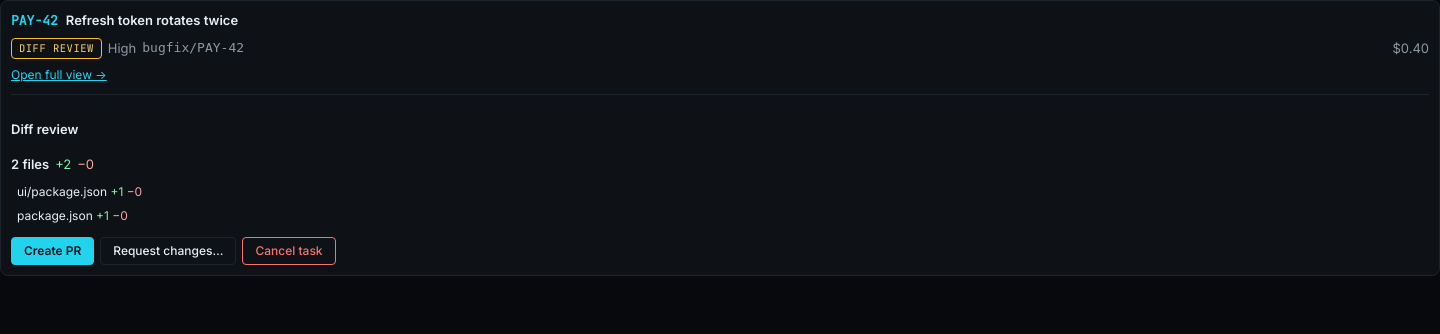
Test case: BugPanel › matches a file to its own diff section when another path is a suffix of it
The width and height of the screenshot is (1440, 334).
Expected: the button "ui/package.json +1 −0" is shown, [11, 180, 148, 204]
// The root package.json must show ITS own hunk, not ui/package.json's.
Click the button "package.json +1 −0" at (72, 217), box [11, 204, 134, 229]
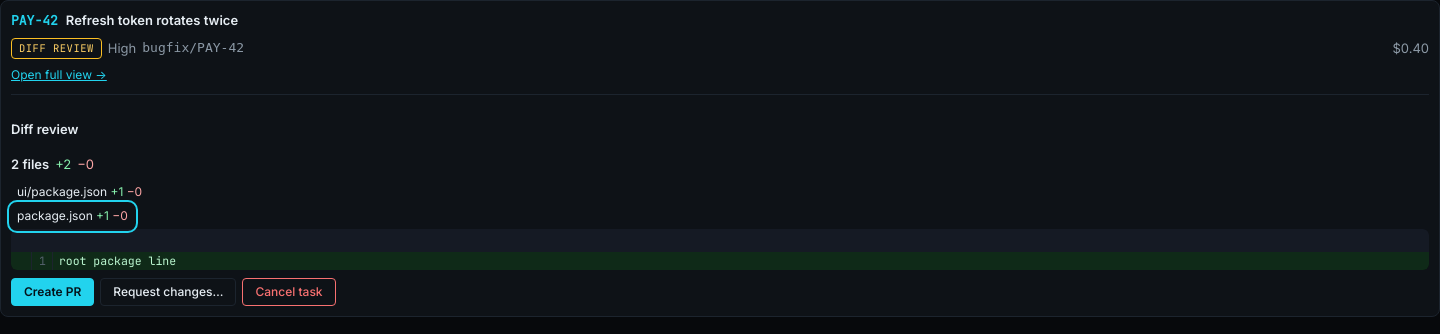
Expected: the text "ui package line" is not shown
Expected: the text "root package line" is shown, [52, 252, 1429, 270]
Click the button "package.json +1 −0" at (72, 217), box [11, 204, 134, 229]
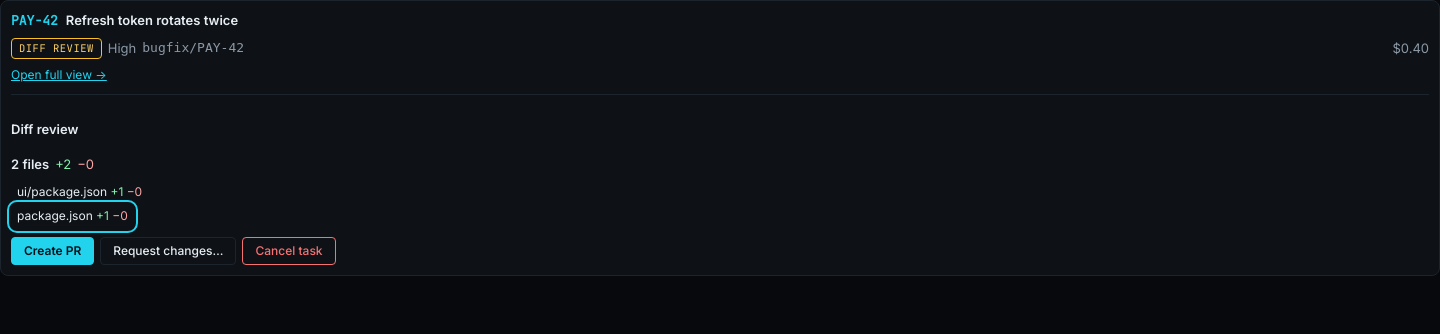
Click the button "ui/package.json +1 −0" at (80, 192), box [11, 180, 148, 204]
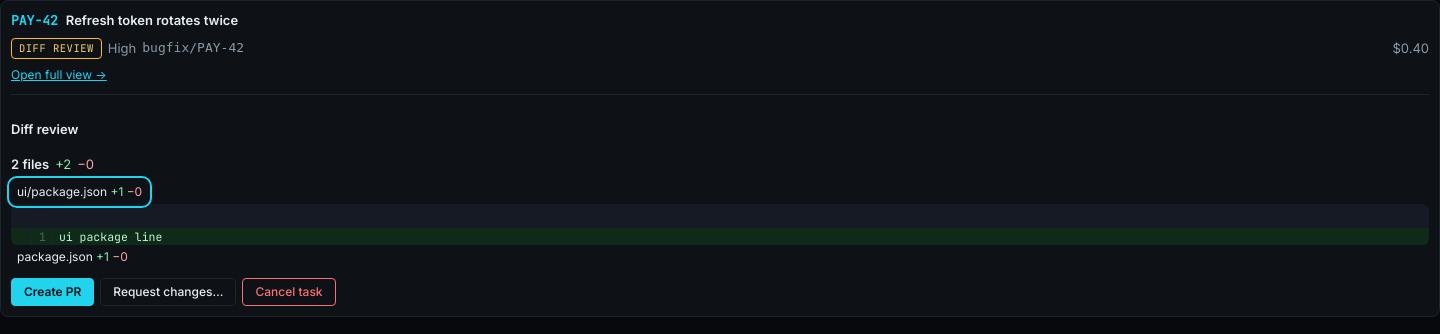
Expected: the text "root package line" is not shown
Expected: the text "ui package line" is shown, [52, 228, 1429, 245]
